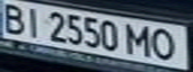0: (100, 18, 124, 52)
2: (42, 8, 69, 44)
5: (63, 11, 84, 47), (81, 16, 103, 50)
B: (0, 1, 30, 35)
I: (21, 4, 45, 38)
M: (127, 21, 154, 57)
O: (148, 25, 184, 62)
